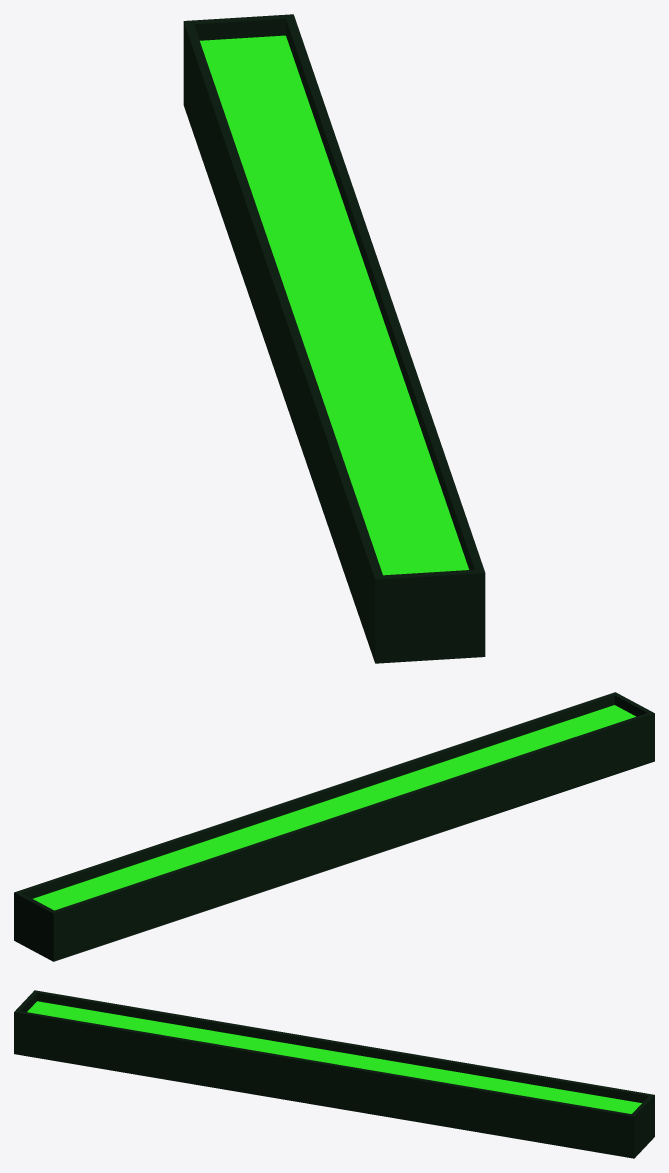
File: MSH_Jardinera_Faltante.FBX
3 renders of one model, top to bottom at view 1: azimuth 30°, elevation 25°; view 2: azimuth 150°, elevation 25°; view 3: azimuth 270°, elevation 25°, orthographic. The views are drawn at different scales.
Visible parts, largest first — view 1: MSH_Jardinera_Faltante; view 2: MSH_Jardinera_Faltante; view 3: MSH_Jardinera_Faltante.
Part boxes in pixels (x1,y1,x2,y2): MSH_Jardinera_Faltante: [183, 14, 485, 663]; MSH_Jardinera_Faltante: [14, 692, 654, 961]; MSH_Jardinera_Faltante: [14, 990, 654, 1158].
Bounding box in the file's own units: 646 × 100 × 1383.
